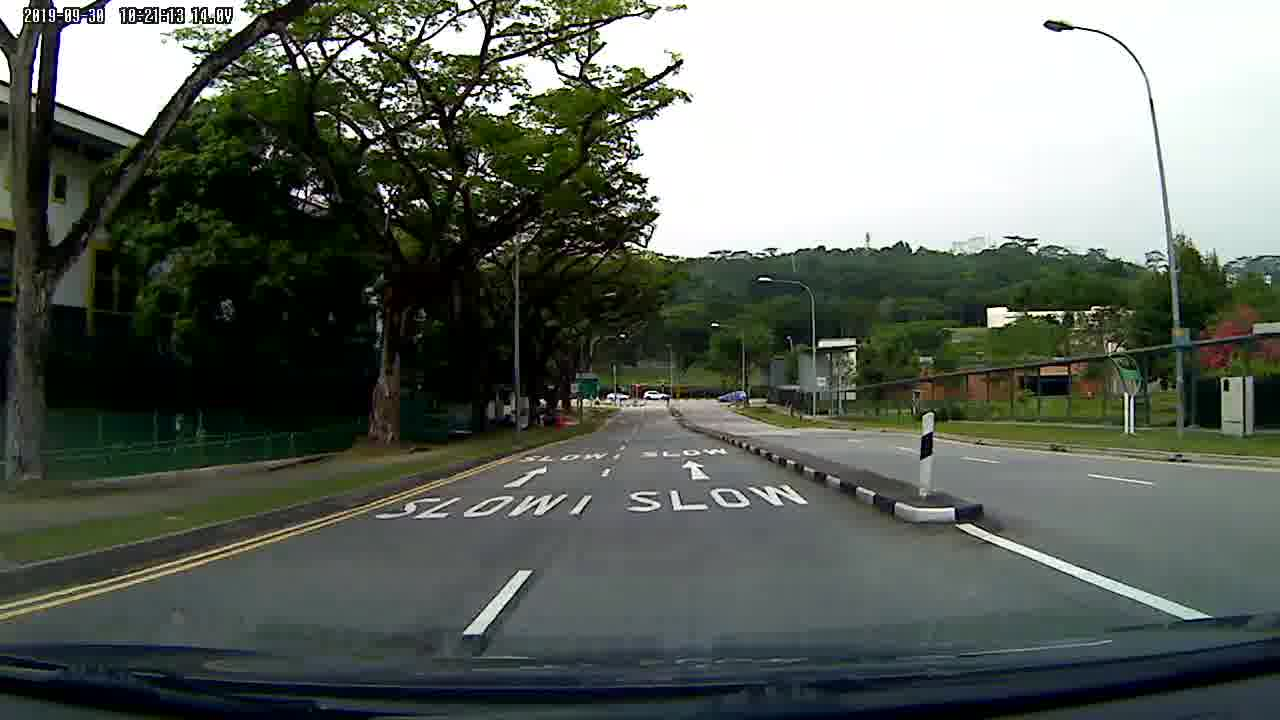car: (643, 388, 670, 401), (716, 390, 746, 401), (605, 390, 629, 401)
